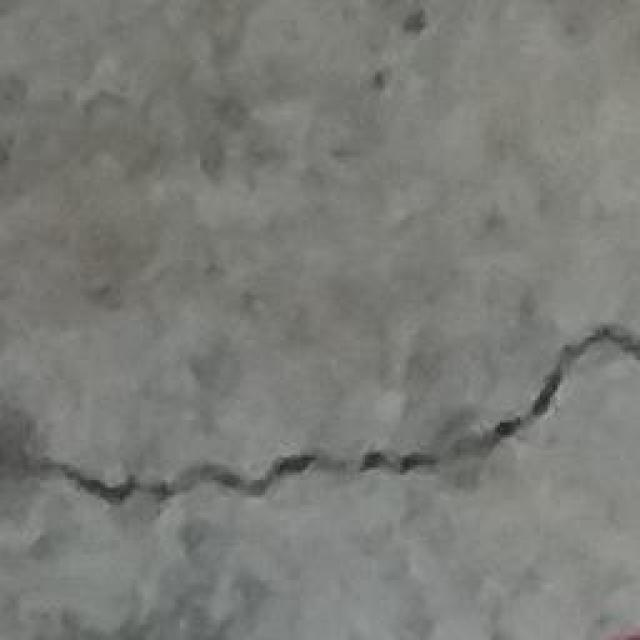Transverse: (6, 319, 640, 512)
